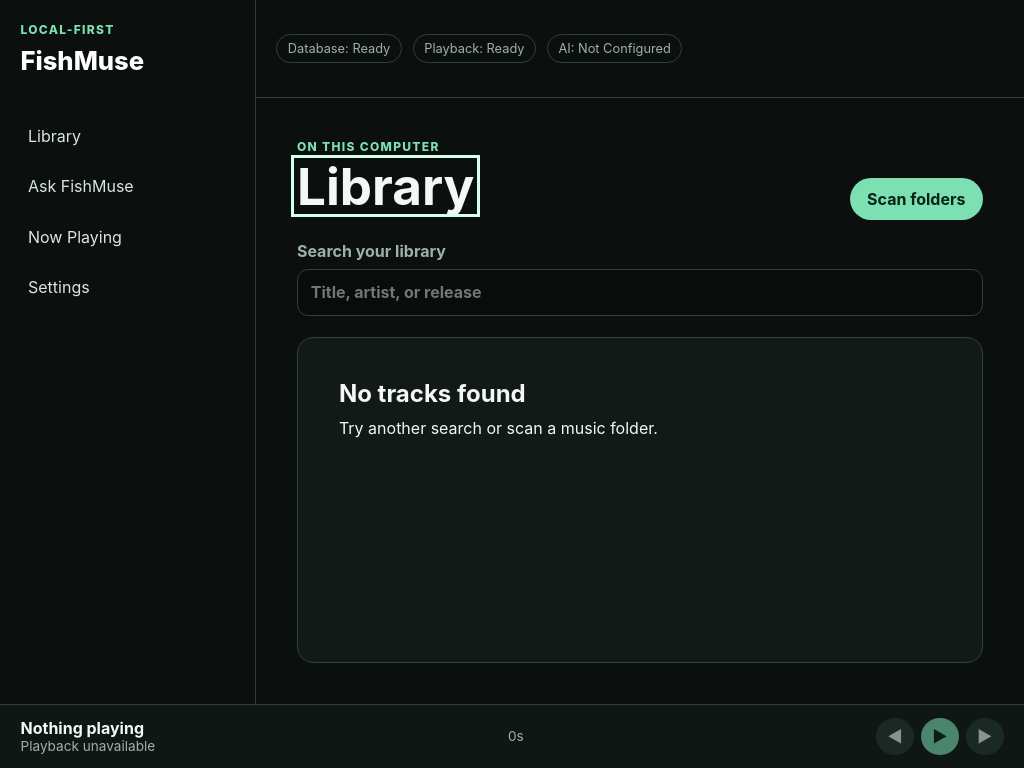
Test case: local library › debounces search and prevents an older response from replacing newer results
Type "old" into the search field labelled "Search your library".
click(640, 292); type("old")  # box [297,268,983,316]
Wait 300 ms
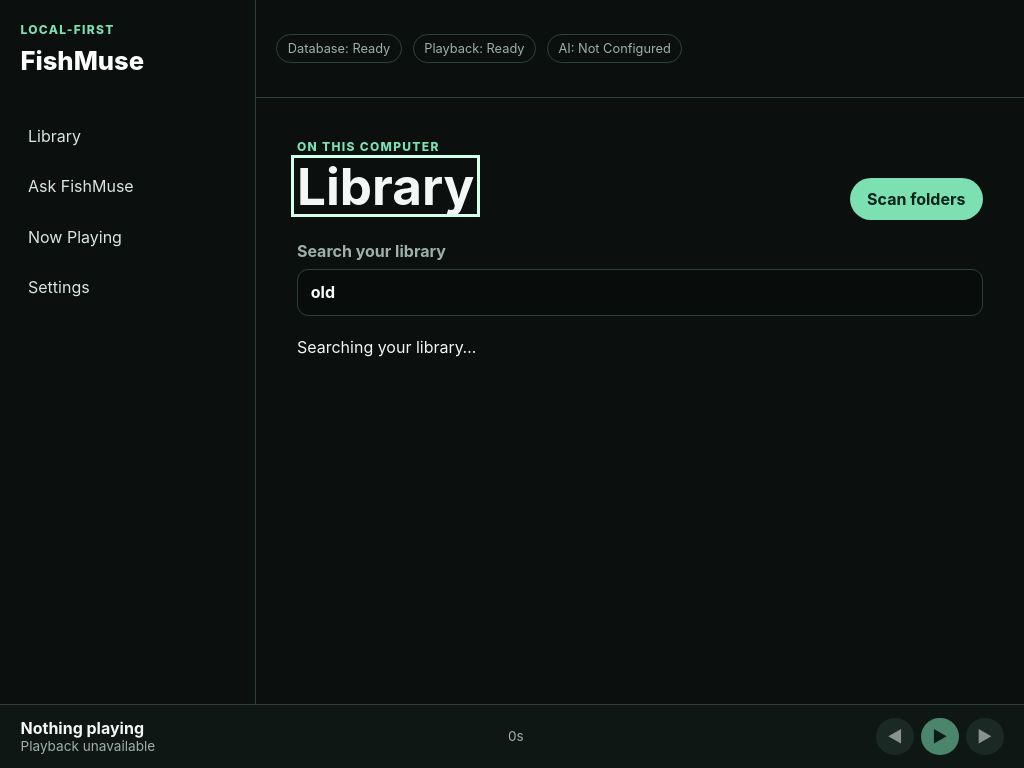
Replace the text in the search field labelled "Search your library" with "new" at coordinates (640, 292), box [297,268,983,316]
Wait 300 ms
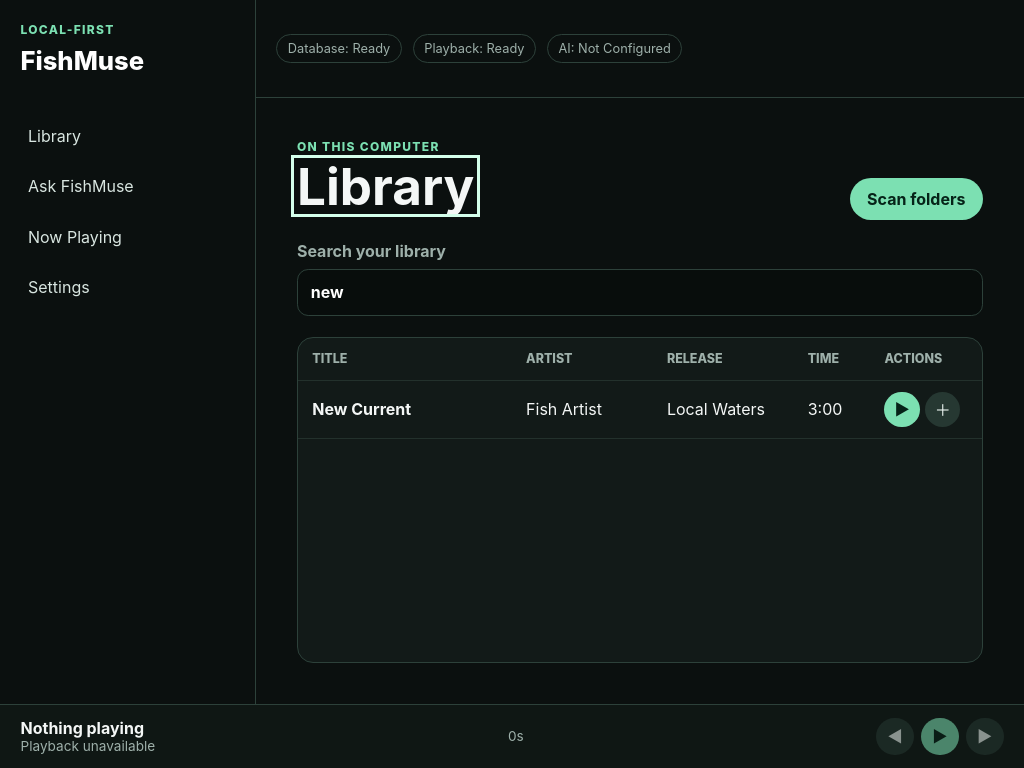
Now the text "New Current" is shown, box [312,399,411,419]
